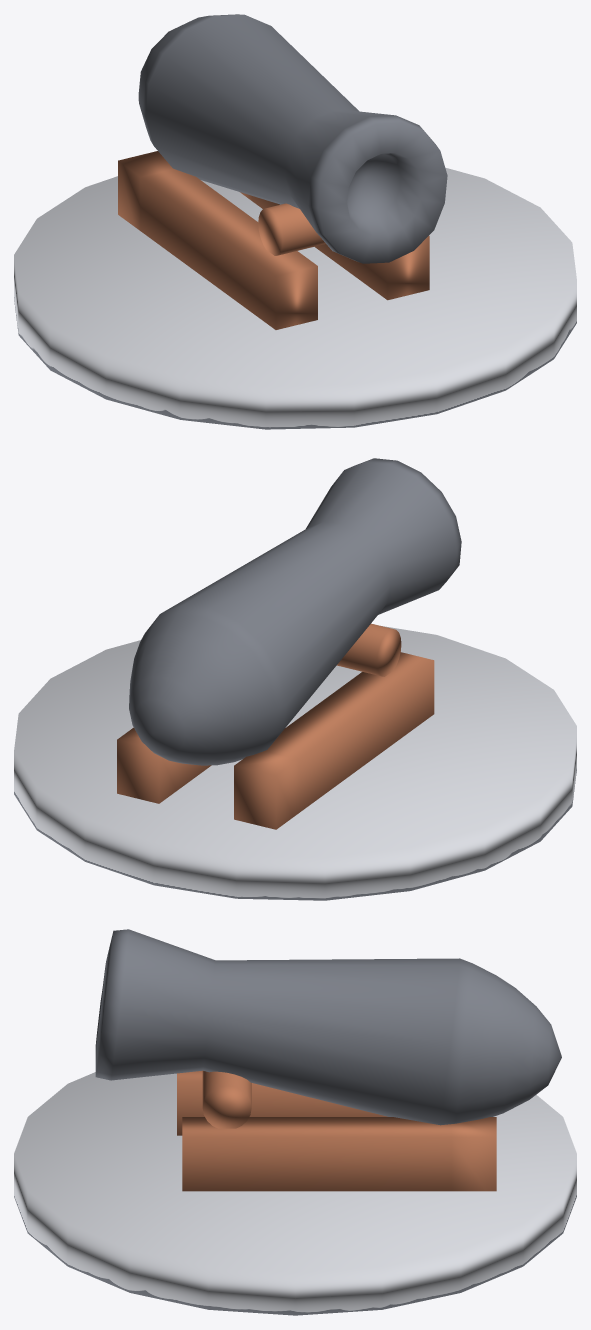
The model's file is cannon.fbx.
3 views of the same model, one above another, from view 1: azimuth 30°, elevation 25°; view 2: azimuth 150°, elevation 25°; view 3: azimuth 270°, elevation 25° (orthographic).
Visible parts, largest first — view 1: pCylinder3, pCylinder1, pCube1, pCube2, pCylinder2; view 2: pCylinder3, pCylinder1, pCube1, pCube2, pCylinder2; view 3: pCylinder3, pCylinder1, pCube2, pCube1, pCylinder2.
Part boxes in pixels (bbox=[...]): pCylinder3: bbox=[14, 167, 576, 429]; pCylinder1: bbox=[138, 14, 447, 263]; pCube1: bbox=[118, 151, 317, 329]; pCube2: bbox=[240, 192, 429, 300]; pCylinder2: bbox=[258, 203, 325, 255]; pCylinder3: bbox=[14, 625, 576, 900]; pCylinder1: bbox=[129, 458, 461, 765]; pCube1: bbox=[234, 652, 434, 829]; pCube2: bbox=[117, 727, 211, 803]; pCylinder2: bbox=[337, 623, 401, 676]; pCylinder3: bbox=[14, 1072, 576, 1315]; pCylinder1: bbox=[95, 929, 561, 1125]; pCube2: bbox=[182, 1117, 496, 1191]; pCube1: bbox=[177, 1070, 387, 1135]; pCylinder2: bbox=[202, 1071, 251, 1128].
Bounding box in the file's own units: 11.23 × 5.65 × 11.23.
